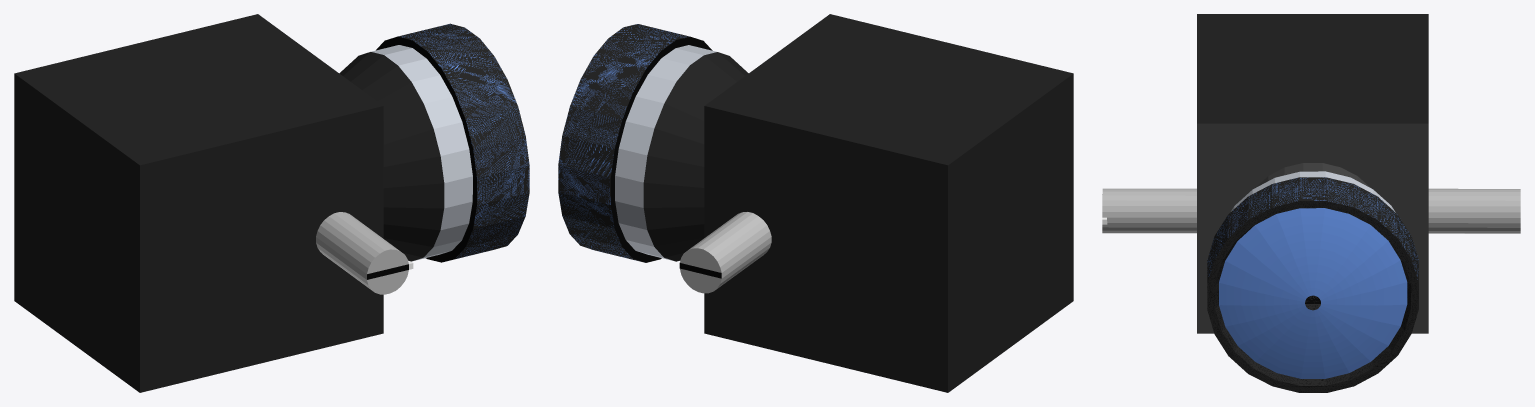
The model's file is camera.obj.
3 renders of one model, left to right at view 1: azimuth 30°, elevation 25°; view 2: azimuth 150°, elevation 25°; view 3: azimuth 270°, elevation 25°, orthographic. The views are drawn at different scales.
Size of the model in its own units: 0.1498 by 0.0798 by 0.144.
